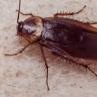cockroach: (15, 11, 97, 63)
